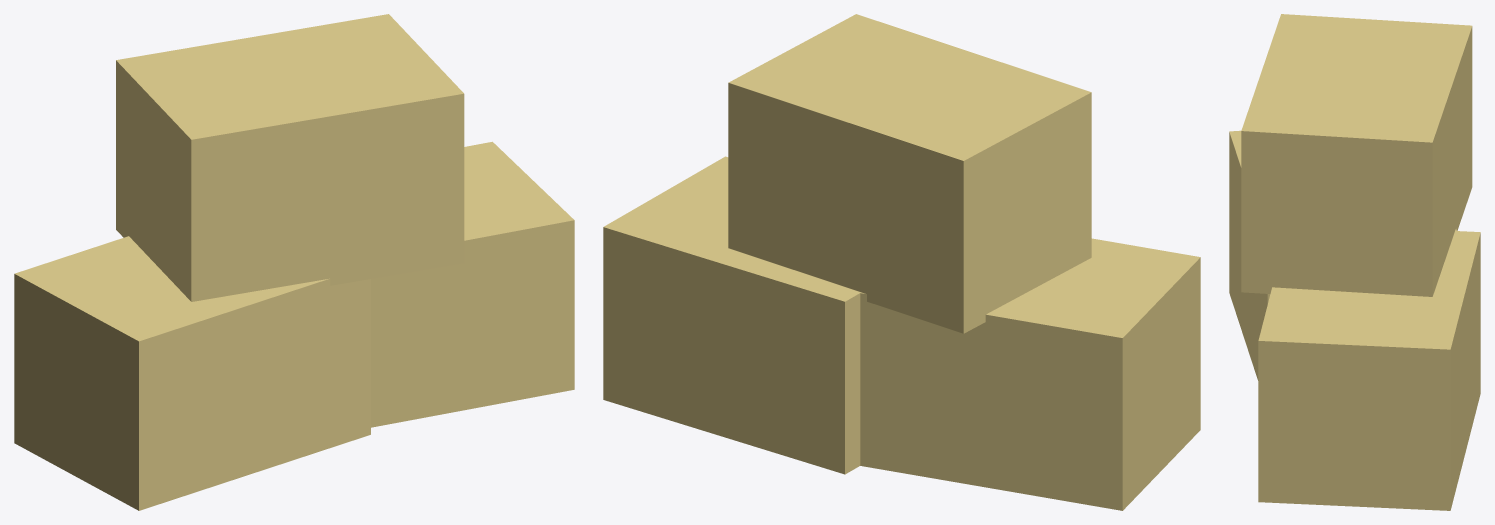
File: HayBale_Stack.glb
The picture shows the model from 3 angles, left to right: view 1: azimuth 30°, elevation 25°; view 2: azimuth 150°, elevation 25°; view 3: azimuth 270°, elevation 25°; orthographic projection. The views are drawn at different scales.
Parts seen in each view (by area): view 1: HayBale_Stack; view 2: HayBale_Stack; view 3: HayBale_Stack.
Part boxes in pixels (x1,y1,x2,y2): HayBale_Stack: (14,14,574,510); HayBale_Stack: (603,14,1200,510); HayBale_Stack: (1229,14,1480,510).
Bounding box in the file's own units: 2.13 × 1.37 × 0.9888.
